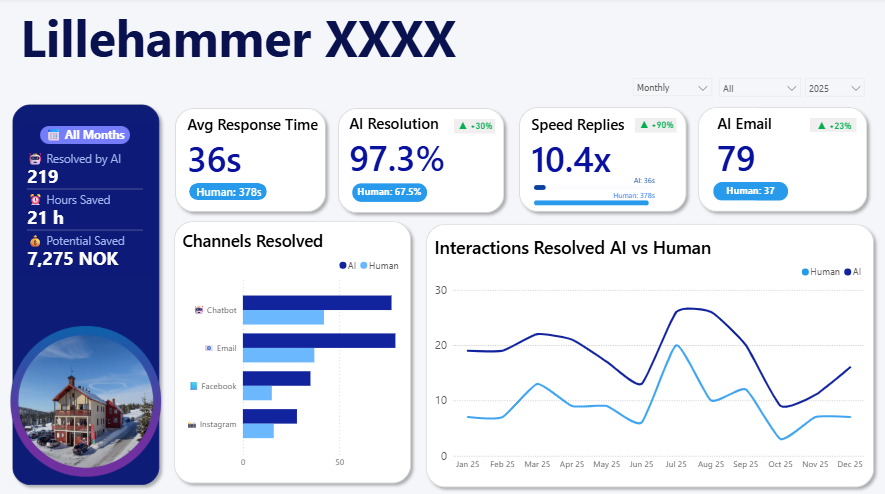

Layout of this report page (visuals, bound fields, positions):
{"tool":"powerbi","page":{"name":"Summary","canvas":[1280,720],"ordinal":1},"visuals":[{"type":"group","id":"g1","title":"Group 5","box":[681.1,110.9,272,174.7],"z":0,"group":"g7"},{"type":"group","id":"g2","title":"Group 9","box":[586.1,338.4,635,280.8],"z":0},{"type":"group","id":"g3","title":"Group 13","box":[161.3,305.3,381.6,358.6],"z":1000},{"type":"textbox","box":[113.8,25.9,650.9,108],"z":2000},{"type":"group","id":"g4","title":"Group 8","box":[133.1,113.8,245.8,175.6],"z":2000,"group":"g5"},{"type":"shape","box":[21.5,313.9,36.2,15.8],"z":2000,"group":"g9"},{"type":"group","id":"g5","title":"Group 11","box":[133.1,113.8,280.5,175.6],"z":3000},{"type":"actionButton","box":[31.9,308.9,82.1,30],"z":3000,"group":"g9"},{"type":"group","id":"g6","title":"Group 12","box":[408.5,107.8,280.5,195.6],"z":4000},{"type":"image","box":[868.1,226.3,97.9,56.2],"z":4000,"group":"g7"},{"type":"group","id":"g7","title":"Group 14","box":[681.1,110.9,284.9,174.7],"z":5000},{"type":"lineChart","title":"Interactions Resolved AI vs Human","fields":{"Category":["Date.Monthly"],"Y":["data_KPI_additional.count_resolved_h","data_KPI_additional.count_resolved_ai"]},"box":[586.1,338.4,635,280.8],"z":5000,"group":"g2"},{"type":"group","id":"g8","title":"Group 6","box":[408.5,107.8,262.6,139.7],"z":6000,"group":"g6"},{"type":"group","id":"g9","title":"Group 2","box":[21.5,308.9,92.2,30.7],"z":6000},{"type":"slicer","fields":{"Values":["Parameter.Parameter"]},"box":[779,37.4,136.8,67.7],"z":7000},{"type":"group","id":"g10","title":"Group 6","box":[134.7,113.8,244.2,153.3],"z":7000,"group":"g4"},{"type":"image","box":[438.5,217.8,186.7,85.6],"z":7000,"group":"g6"},{"type":"clusteredBarChart","title":"Channels Resolved","fields":{"Category":["data_interaction_match.channel_icon"],"Series":["data_interaction_match.handled_by"],"Y":["data_KPI_additional.count_resolved_AI_HUMAN"]},"box":[178.1,324.6,347.8,318.8],"z":7000,"group":"g3"},{"type":"slicer","title":"MONTH","fields":{"Values":["Date.MonthSort"]},"box":[915.8,36,151.2,56.2],"z":8000},{"type":"image","box":[610.1,233.6,78.9,44.4],"z":8000,"group":"g6"},{"type":"slicer","title":"YEAR","fields":{"Values":["Date.Yearly"]},"box":[1057,37.4,148.3,46.1],"z":9000},{"type":"image","box":[315.8,223.4,97.8,54.4],"z":9000,"group":"g5"},{"type":"group","id":"g11","title":"Group 7","box":[133.1,224,162.7,65.5],"z":9000,"group":"g4"},{"type":"group","id":"g12","title":"Group 3","box":[682.7,110.9,270.4,136.7],"z":10000,"group":"g1"},{"type":"group","id":"g13","title":"Group 4","box":[965.5,112.7,213.6,118.2],"z":10000},{"type":"cardVisual","title":"AI Resolution Rate","fields":{"Data":["data_KPI_additional.speed_ratio_text"]},"box":[408.5,107.8,238.9,139.7],"z":11000,"group":"g8"},{"type":"cardVisual","title":"AI Resolution Rate","fields":{"Data":["data_KPI_additional.count_email_ai_resolved"]},"box":[682.7,110.9,270.4,136.7],"z":11000,"group":"g19"},{"type":"cardVisual","title":"AI Resolution Rate","fields":{"Data":["data_KPI_additional.total_hours_saved_AI_text"]},"box":[965.5,112.7,213.3,118.3],"z":11000,"group":"g13"},{"type":"cardVisual","title":"AI Resolution Rate","fields":{"Data":["data_KPI_additional.prct_resolved_true_ai"]},"box":[134.7,113.8,230.8,153.3],"z":11000,"group":"g20"},{"type":"group","id":"g14","title":"Group 4","box":[966.4,159.1,253.6,117.3],"z":11000},{"type":"cardVisual","title":"AI Resolution Rate","fields":{"Data":["data_KPI_additional.cost_saved_NOK_text"]},"box":[966.4,159.1,253.3,116.7],"z":11000,"group":"g14"},{"type":"shape","box":[602.3,141.1,66.7,21.1],"z":11501,"group":"g16"},{"type":"shape","box":[869.3,145,70.8,20.8],"z":11501,"group":"g17"},{"type":"shape","box":[318,145.7,58.9,20],"z":11501,"group":"g18"},{"type":"cardVisual","fields":{"Data":["data_KPI_additional.count_email_h_resolved_text"]},"box":[681.1,213.9,158.3,71.7],"z":12000,"group":"g15"},{"type":"cardVisual","fields":{"Data":["data_KPI_additional.prct_resolved_true_h_text"]},"box":[133.1,224,163.2,65.2],"z":12000,"group":"g11"},{"type":"image","box":[1152,226.1,79.2,51.8],"z":12000},{"type":"card","fields":{"Values":["data_KPI_additional.prct_speed_ai_efficient_text"]},"box":[598.9,139.9,72.2,26.7],"z":12001,"group":"g16"},{"type":"card","fields":{"Values":["data_KPI_additional.resolution_email_AI_vs_Human"]},"box":[862.1,141.4,80.8,30],"z":12001,"group":"g17"},{"type":"card","fields":{"Values":["data_KPI_additional.resolution_AI_vs_Human"]},"box":[314.1,144,64.8,25.9],"z":12001,"group":"g18"},{"type":"group","id":"g15","title":"Group 7","box":[681.1,213.9,158.3,71.7],"z":12001,"group":"g1"},{"type":"group","id":"g16","title":"Group 1","box":[598.9,139.9,72.2,26.7],"z":12002,"group":"g8"},{"type":"group","id":"g17","title":"Group 1","box":[862.1,141.4,80.8,30],"z":12002,"group":"g19"},{"type":"group","id":"g18","title":"Group 1","box":[314.1,144,64.8,25.9],"z":12002,"group":"g20"},{"type":"group","id":"g19","title":"Group 4","box":[682.7,110.9,270.4,136.7],"z":12007,"group":"g12"},{"type":"group","id":"g20","title":"Group 4","box":[134.7,113.8,244.2,153.3],"z":12007,"group":"g10"},{"type":"image","box":[46.1,172.1,50.7,58.4],"z":13000},{"type":"actionButton","box":[1205.3,44.6,46.1,38.9],"z":14000}]}

Visuals, with their boxes in screenshot pixels (x1, y1, x2, y2), scaled from the page's 1280x720 canvas onto the 885x494 screenshot:
"Group 5" group: l=471, t=76, r=659, b=196
"Group 9" group: l=405, t=232, r=844, b=425
"Group 13" group: l=112, t=209, r=375, b=456
textbox: l=79, t=18, r=529, b=92
"Group 8" group: l=92, t=78, r=262, b=199
shape: l=15, t=215, r=40, b=226
"Group 11" group: l=92, t=78, r=286, b=199
actionButton: l=22, t=212, r=79, b=233
"Group 12" group: l=282, t=74, r=476, b=208
image: l=600, t=155, r=668, b=194
"Group 14" group: l=471, t=76, r=668, b=196
"Interactions Resolved AI vs Human" lineChart: l=405, t=232, r=844, b=425
"Group 6" group: l=282, t=74, r=464, b=170
"Group 2" group: l=15, t=212, r=79, b=233
slicer - Parameter.Parameter: l=539, t=26, r=633, b=72
"Group 6" group: l=93, t=78, r=262, b=183
image: l=303, t=149, r=432, b=208
"Channels Resolved" clusteredBarChart: l=123, t=223, r=364, b=441
"MONTH" slicer: l=633, t=25, r=738, b=63
image: l=422, t=160, r=476, b=191
"YEAR" slicer: l=731, t=26, r=833, b=57
image: l=218, t=153, r=286, b=191
"Group 7" group: l=92, t=154, r=205, b=199
"Group 3" group: l=472, t=76, r=659, b=170
"Group 4" group: l=668, t=77, r=815, b=158
"AI Resolution Rate" cardVisual: l=282, t=74, r=448, b=170
"AI Resolution Rate" cardVisual: l=472, t=76, r=659, b=170
"AI Resolution Rate" cardVisual: l=668, t=77, r=815, b=158
"AI Resolution Rate" cardVisual: l=93, t=78, r=253, b=183
"Group 4" group: l=668, t=109, r=844, b=190
"AI Resolution Rate" cardVisual: l=668, t=109, r=843, b=189
shape: l=416, t=97, r=463, b=111
shape: l=601, t=99, r=650, b=114
shape: l=220, t=100, r=261, b=114
cardVisual - data_KPI_additional.count_email_h_resolved_text: l=471, t=147, r=580, b=196
cardVisual - data_KPI_additional.prct_resolved_true_h_text: l=92, t=154, r=205, b=198
image: l=796, t=155, r=851, b=191
card - data_KPI_additional.prct_speed_ai_efficient_text: l=414, t=96, r=464, b=114
card - data_KPI_additional.resolution_email_AI_vs_Human: l=596, t=97, r=652, b=118
card - data_KPI_additional.resolution_AI_vs_Human: l=217, t=99, r=262, b=117
"Group 7" group: l=471, t=147, r=580, b=196
"Group 1" group: l=414, t=96, r=464, b=114
"Group 1" group: l=596, t=97, r=652, b=118
"Group 1" group: l=217, t=99, r=262, b=117
"Group 4" group: l=472, t=76, r=659, b=170
"Group 4" group: l=93, t=78, r=262, b=183
image: l=32, t=118, r=67, b=158
actionButton: l=833, t=31, r=865, b=57
